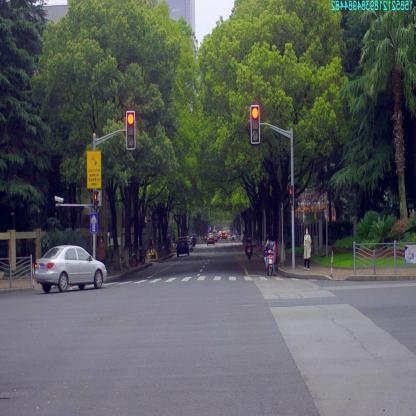traffic-light: (127, 112, 135, 148), (251, 106, 259, 142)
